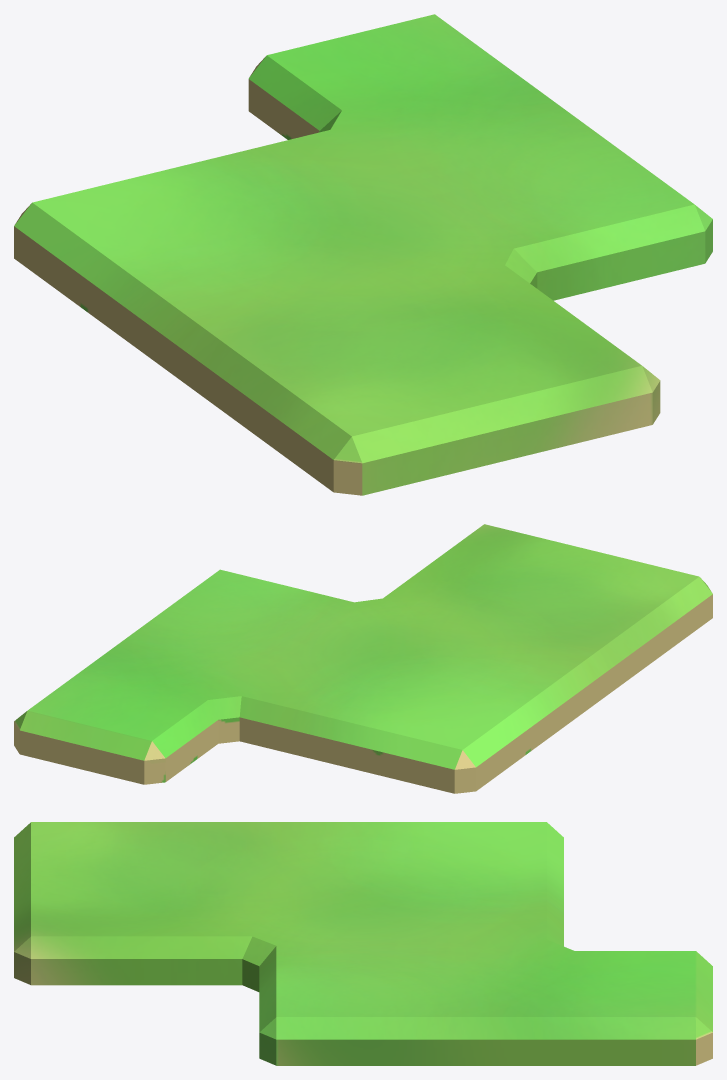
File: road 2.fbx
3 renders of one model, top to bottom at view 1: azimuth 30°, elevation 25°; view 2: azimuth 150°, elevation 25°; view 3: azimuth 270°, elevation 25°, orthographic. The views are drawn at different scales.
Parts seen in each view (by area): view 1: Plane.001; view 2: Plane.001; view 3: Plane.001.
Part boxes in pixels (box(x1,y1,x2,y2)): Plane.001: box(14, 14, 712, 495); Plane.001: box(14, 524, 712, 793); Plane.001: box(14, 822, 712, 1065).
Bounding box in the file's own units: 191 × 17.66 × 269.
